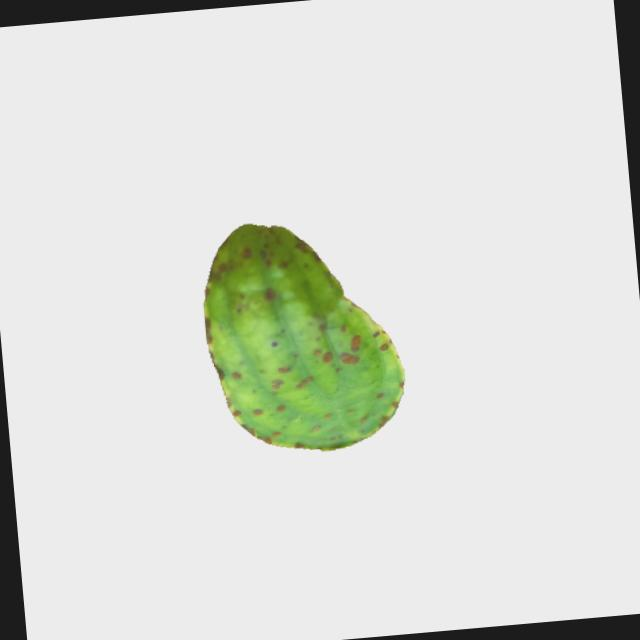yellow-mottle-virus: (196, 212, 414, 462)
